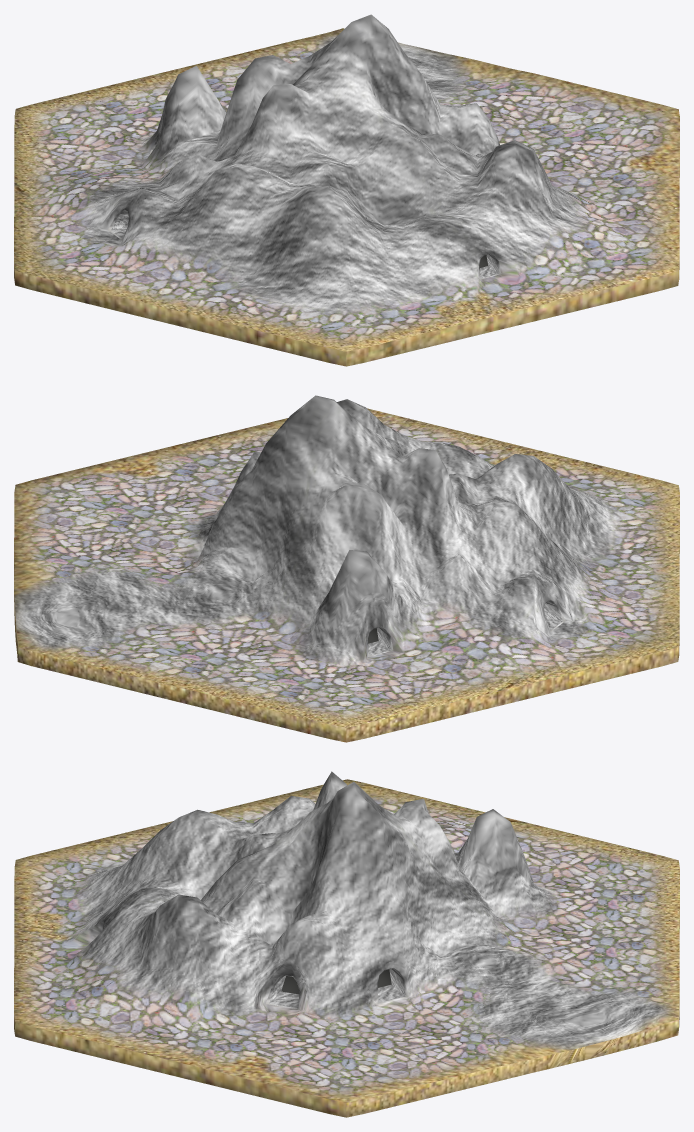
File: redhex.fbx
The picture shows the model from 3 angles, top to bottom: view 1: azimuth 30°, elevation 25°; view 2: azimuth 150°, elevation 25°; view 3: azimuth 270°, elevation 25°; orthographic projection.
Parts seen in each view (by area): view 1: Hexa_dul; view 2: Hexa_dul; view 3: Hexa_dul.
Boxes of the visible parts, box(x1,y1,x2,y2) form: Hexa_dul: box(14, 14, 679, 366); Hexa_dul: box(14, 395, 679, 742); Hexa_dul: box(14, 771, 679, 1117).
Bounding box in the file's own units: 961 × 251 × 836.
1 material, 1 textured.
